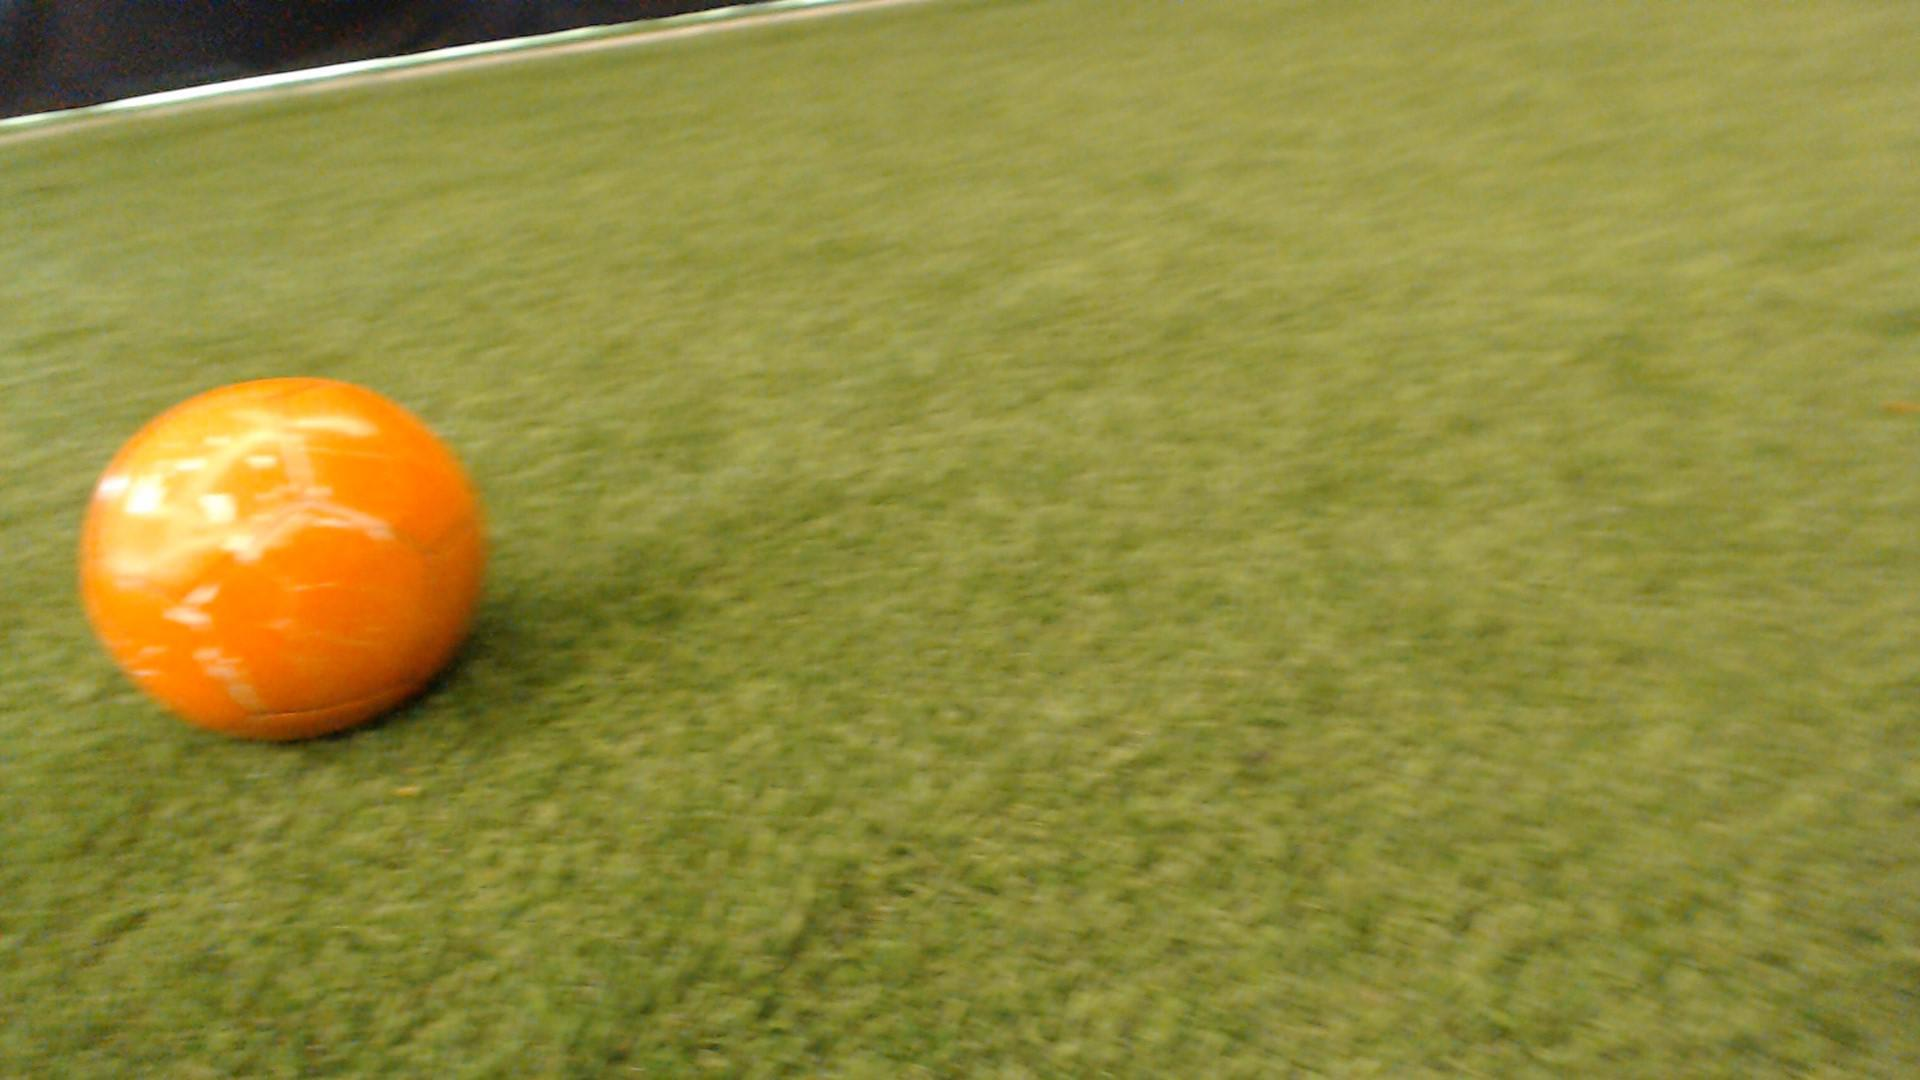bola: (65, 352, 524, 764)
